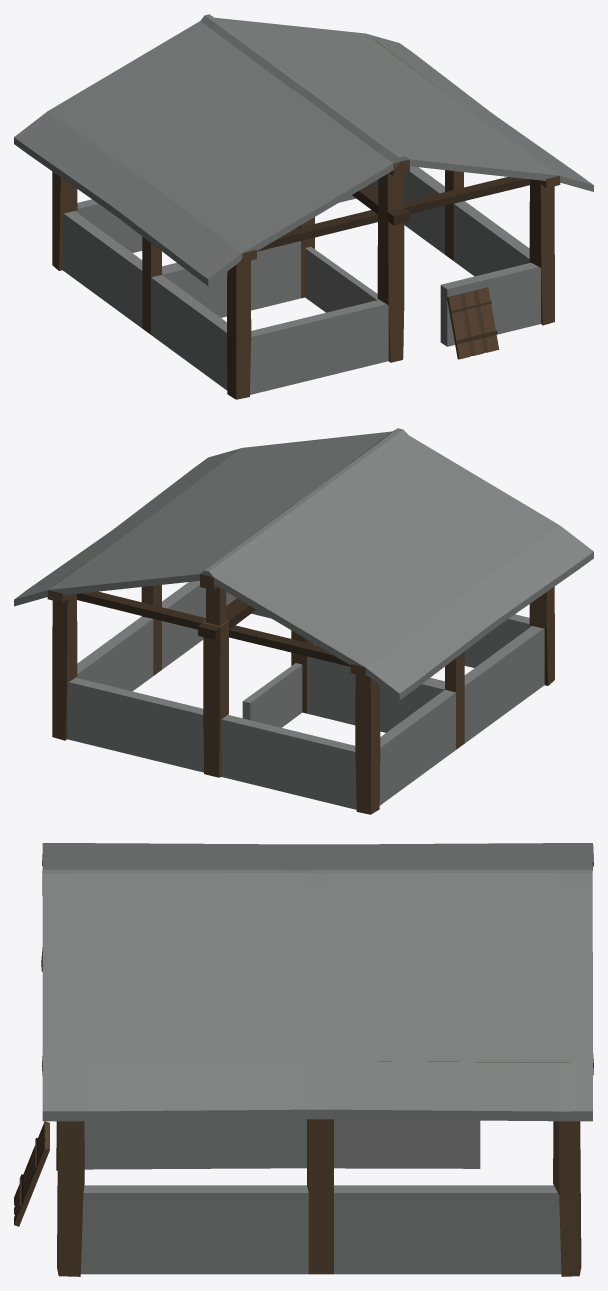
The model's file is Chiqueiro.fbx.
The picture shows the model from 3 angles, top to bottom: view 1: azimuth 30°, elevation 25°; view 2: azimuth 150°, elevation 25°; view 3: azimuth 270°, elevation 25°; orthographic projection. The views are drawn at different scales.
Visible parts, largest first — view 1: Cube.001, Cube, Plane; view 2: Cube.001, Cube; view 3: Cube.001, Cube, Plane.
Boxes of the visible parts, x1,y1,x2,y2 form: Cube.001: (14,14,593,285); Cube: (52,37,560,399); Plane: (447,287,499,359); Cube.001: (14,428,593,700); Cube: (47,537,554,814); Cube.001: (42,843,592,1121); Cube: (41,845,593,1276); Plane: (14,1121,49,1226).
Bounding box in the file's own units: 1404 × 723 × 1290.
